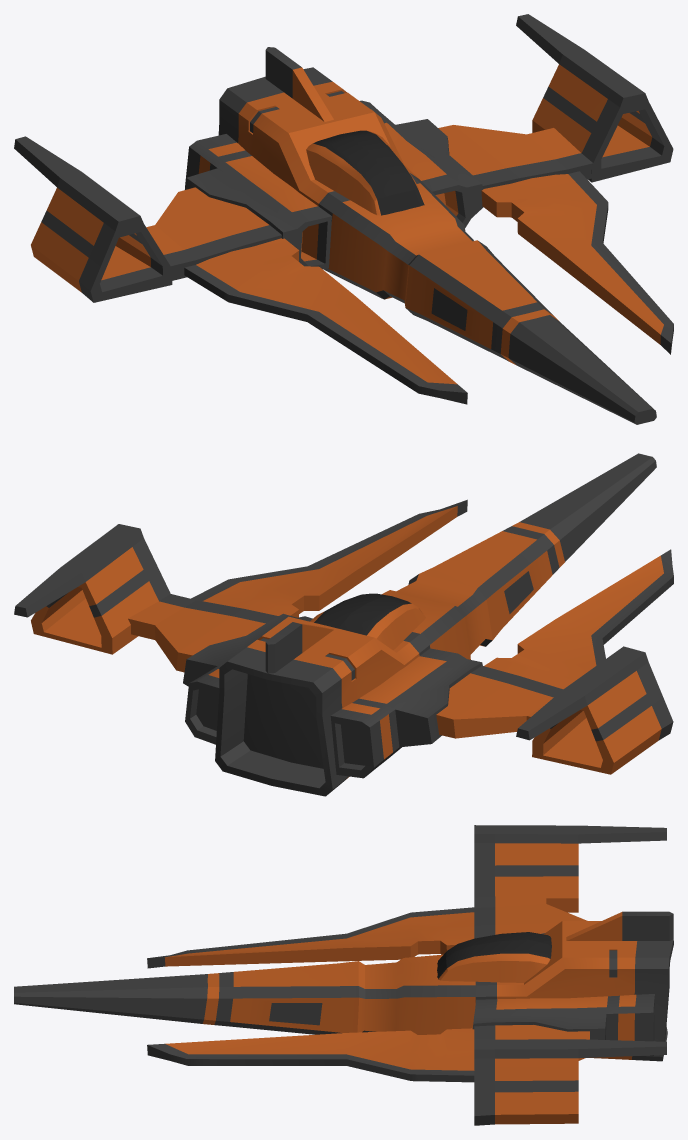
The model's file is Spaceship.gltf.
The picture shows the model from 3 angles, top to bottom: view 1: azimuth 30°, elevation 25°; view 2: azimuth 150°, elevation 25°; view 3: azimuth 270°, elevation 25°; orthographic projection. The views are drawn at different scales.
Visible parts, largest first — view 1: Spaceship_RaeTheRedPanda; view 2: Spaceship_RaeTheRedPanda; view 3: Spaceship_RaeTheRedPanda.
Part boxes in pixels (x1,y1,x2,y2): Spaceship_RaeTheRedPanda: (14,14,673,424); Spaceship_RaeTheRedPanda: (14,453,673,796); Spaceship_RaeTheRedPanda: (14,825,673,1125).
Size of the model in its own units: 9.95 by 2.35 by 11.17.
